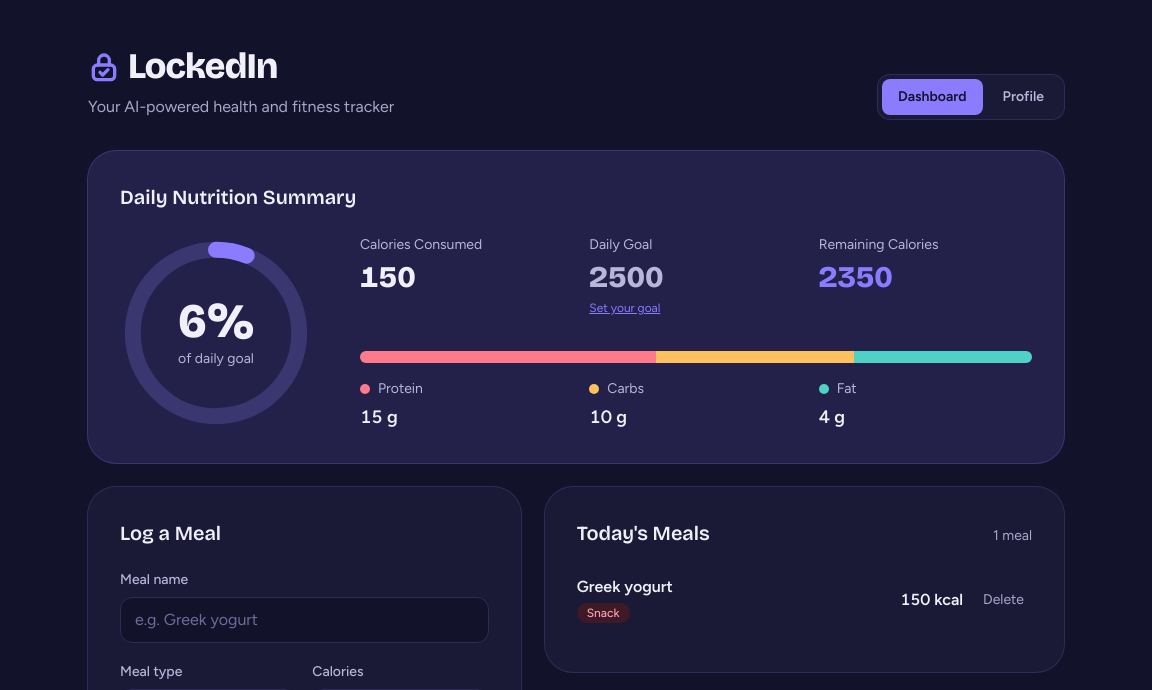
dashboard connected to the API › does not report a saved meal as failed when the refresh after saving fails
Expected: the heading "Greek yogurt" is shown, [577, 575, 673, 599]
In the field labelled "Meal name": [304, 620] box [120, 597, 489, 643], type "Apple"
(page scrolled)
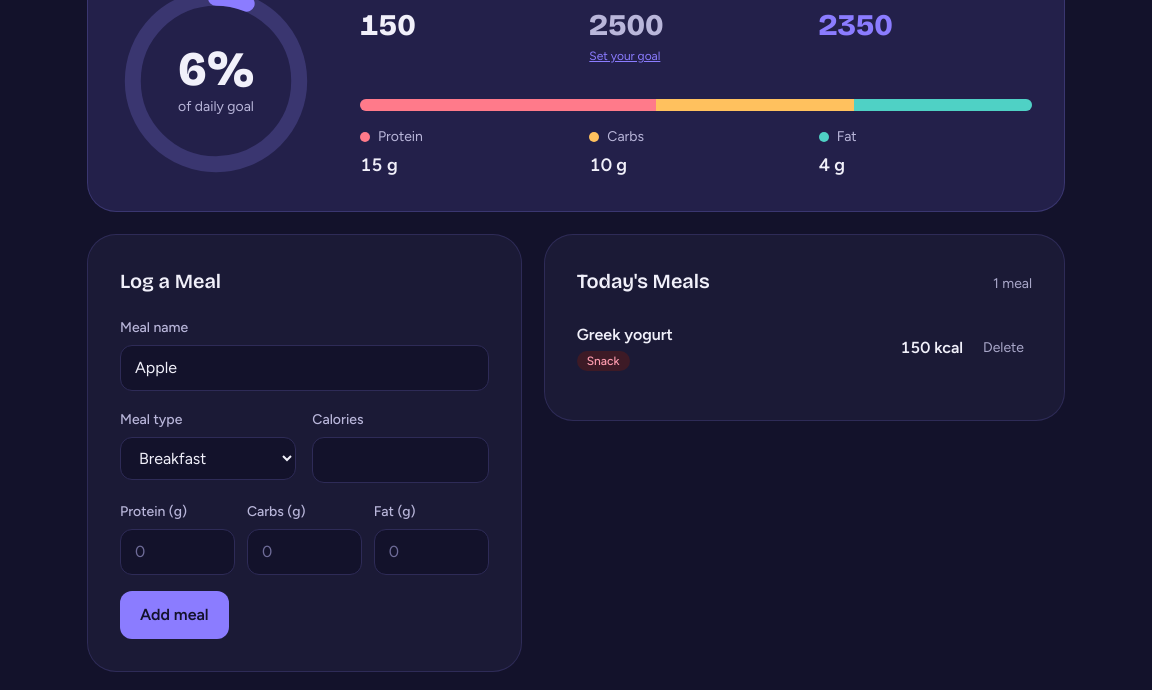
In the number field labelled "Calories": [401, 460] box [312, 437, 489, 483], type "95"
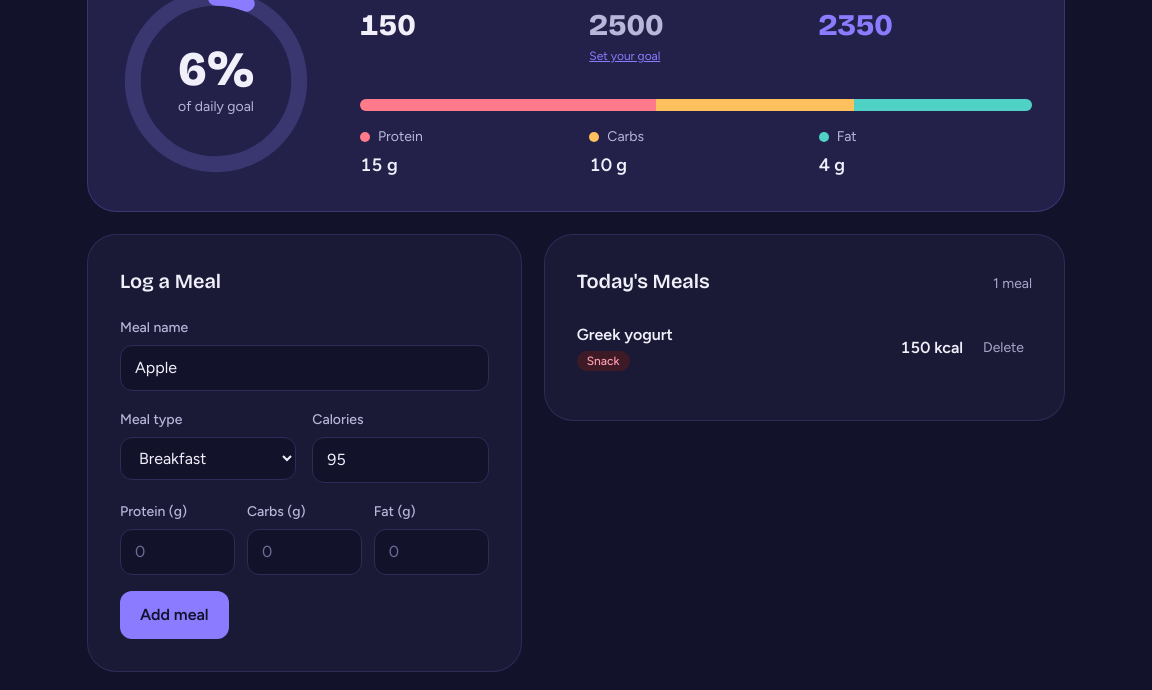
Click the button "Add meal": [174, 615] box [120, 591, 229, 639]
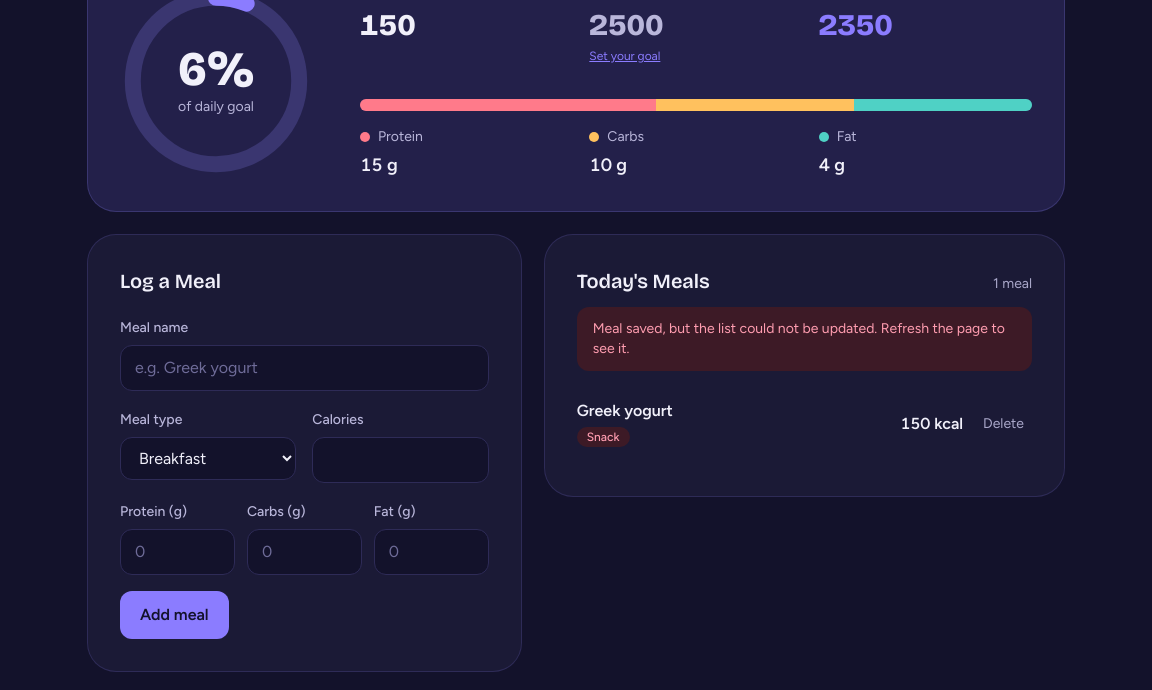
Now the message with test id "meal-list-error" shows "Meal saved", box [593, 320, 1005, 357]
Now the field labelled "Meal name" is empty, box [120, 345, 489, 391]
